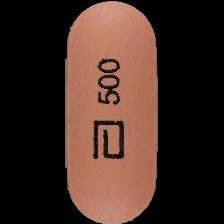21695-852: (0, 0, 224, 224)
